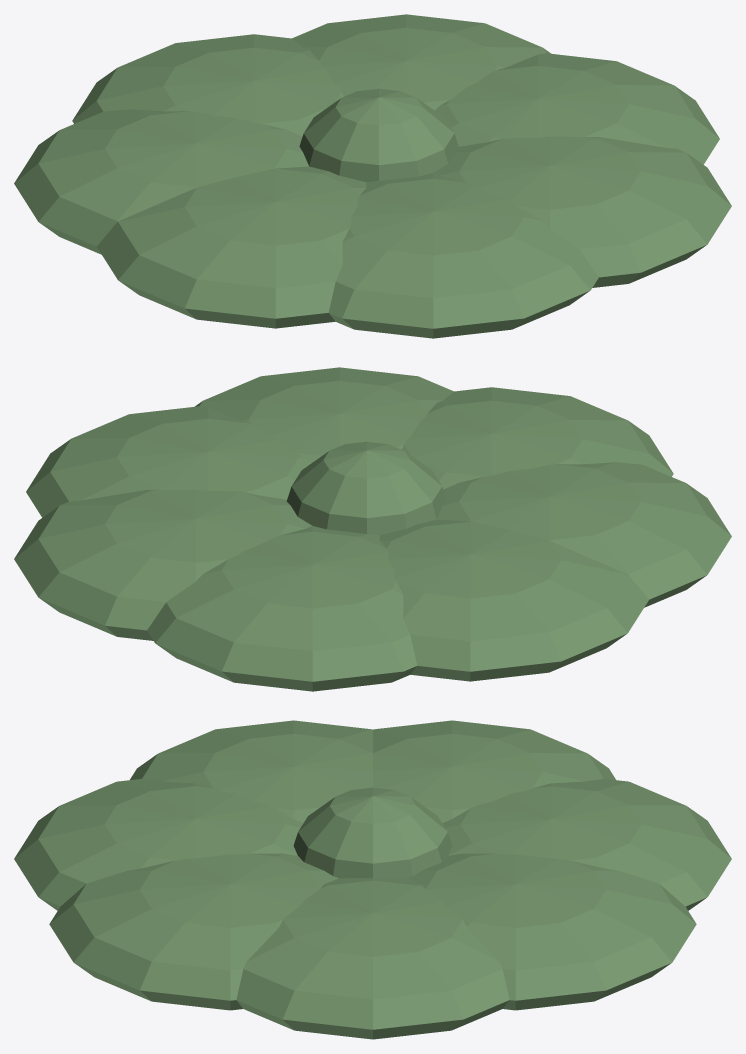
File: palm_crown.glb
3 views of the same model, one above another, from view 1: azimuth 30°, elevation 25°; view 2: azimuth 150°, elevation 25°; view 3: azimuth 270°, elevation 25° (orthographic).
Parts seen in each view (by area): view 1: palm_crown; view 2: palm_crown; view 3: palm_crown.
Boxes of the visible parts, x1,y1,x2,y2 form: palm_crown: [14, 14, 731, 338]; palm_crown: [14, 367, 731, 691]; palm_crown: [14, 720, 731, 1039].
Bounding box in the file's own units: 2.25 × 0.5 × 2.28.
